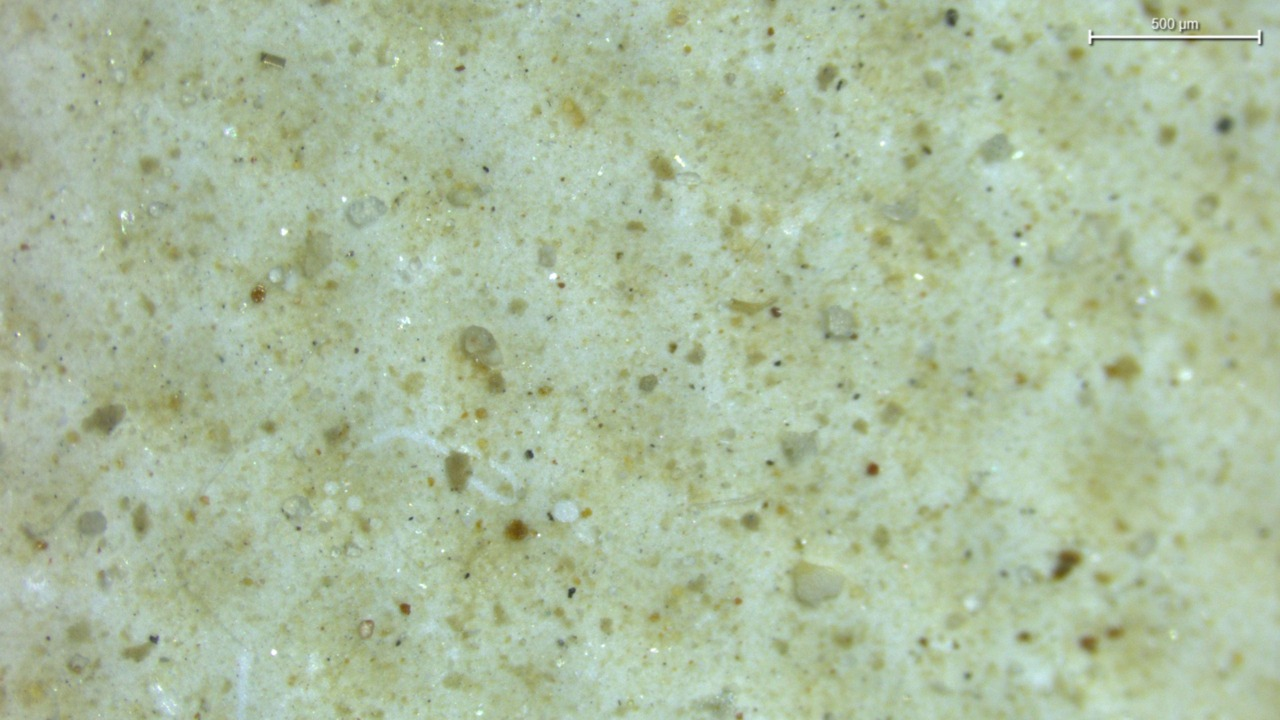microplastic_fragment: (791, 561, 843, 605), (345, 196, 388, 227), (822, 305, 858, 341), (461, 326, 497, 356)
